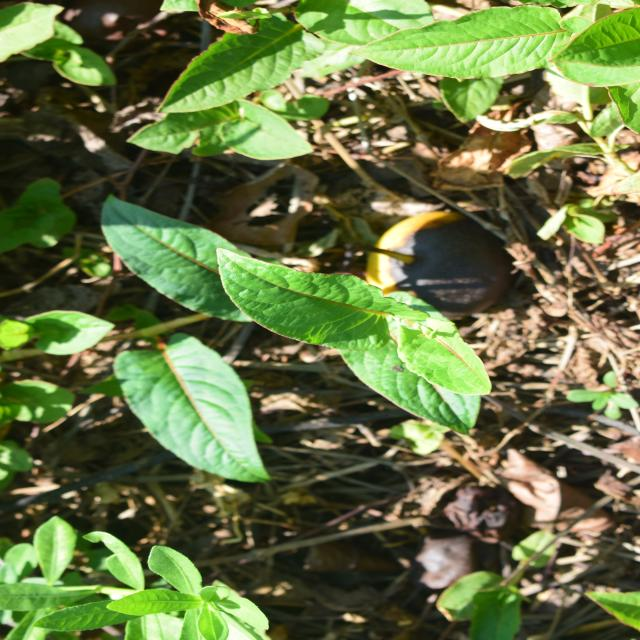Chinese_knotweed: (150, 83, 408, 493)
